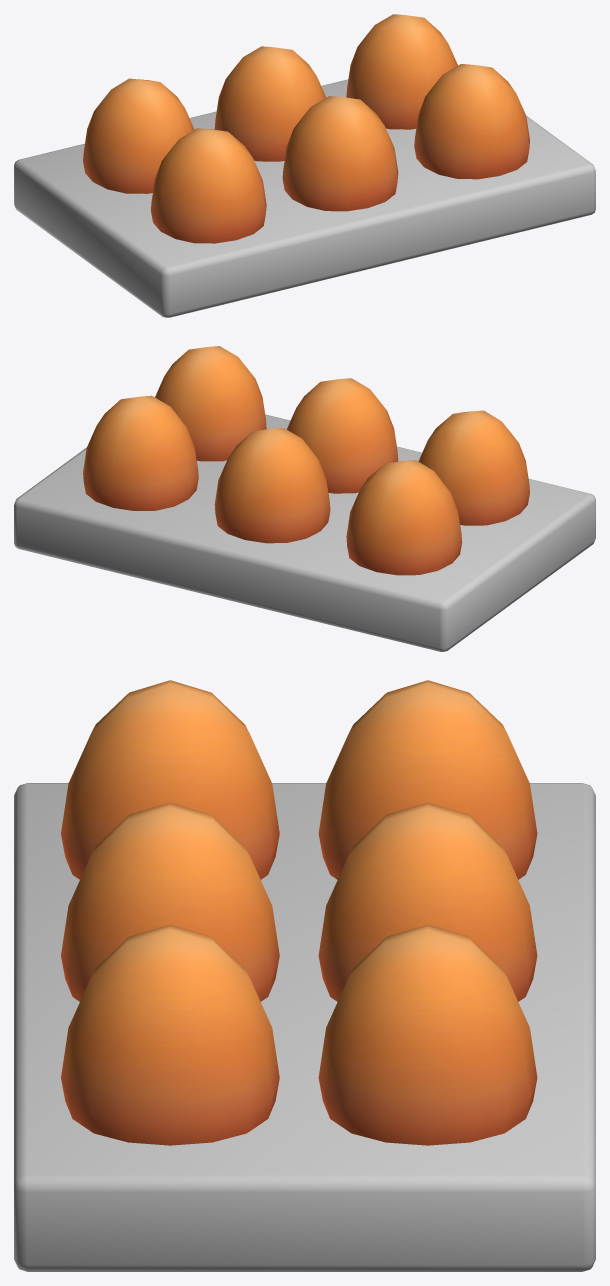
File: Egg.fbx
3 renders of one model, top to bottom at view 1: azimuth 30°, elevation 25°; view 2: azimuth 150°, elevation 25°; view 3: azimuth 270°, elevation 25°, orthographic. The views are drawn at different scales.
Parts seen in each view (by area): view 1: Telur; view 2: Telur; view 3: Telur.
Boxes of the visible parts, box(x1,y1,x2,y2) form: Telur: box(14, 14, 595, 317); Telur: box(14, 346, 595, 651); Telur: box(14, 680, 595, 1271).
Size of the model in its own units: 731 by 228 by 447.
